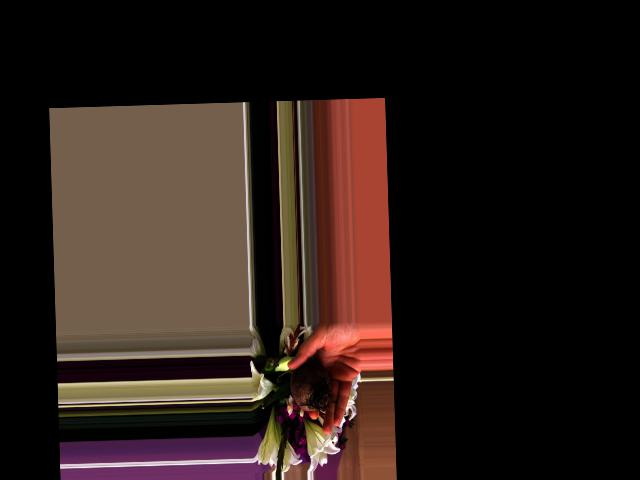beet: (277, 359, 331, 412)
